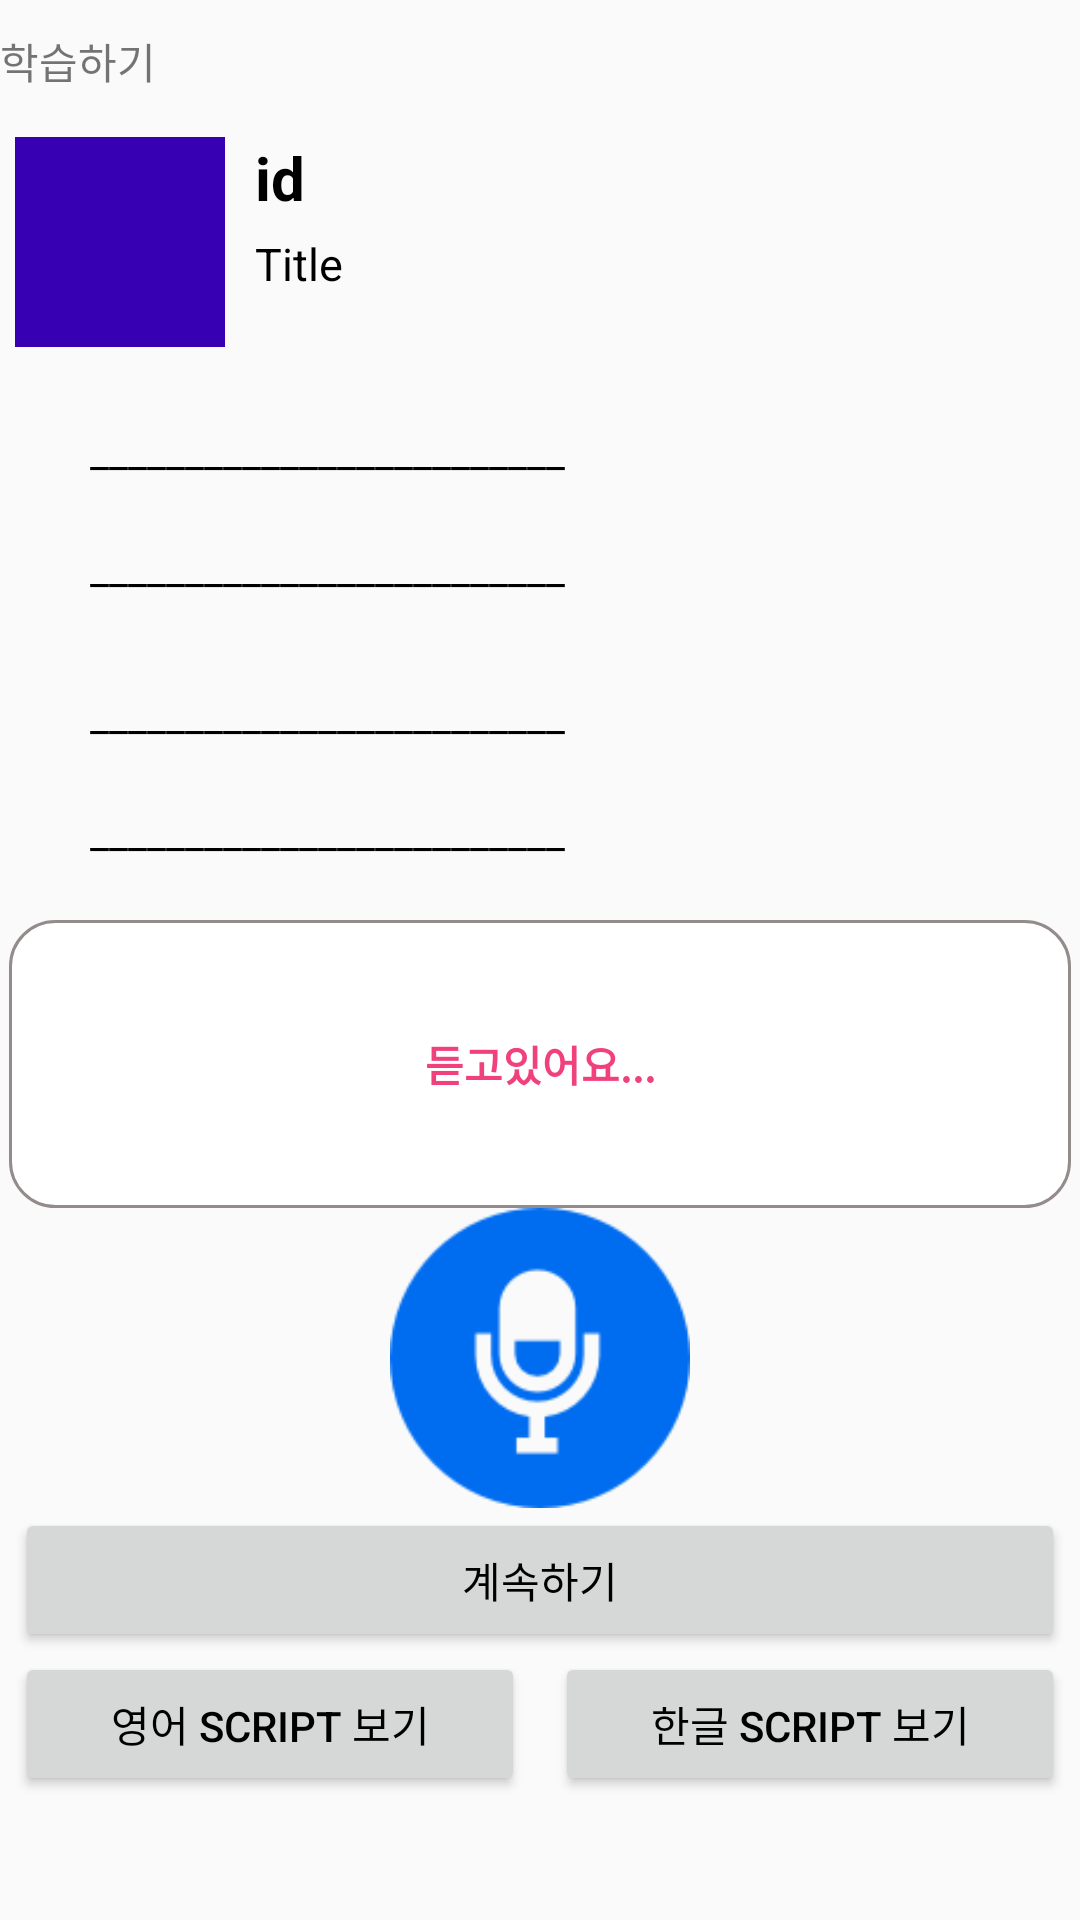

Icon bounding boxes for this 1080w x 1920h phone screenshot, format [x1, y1, x2, y2]:
mic: [390, 1208, 690, 1508]
